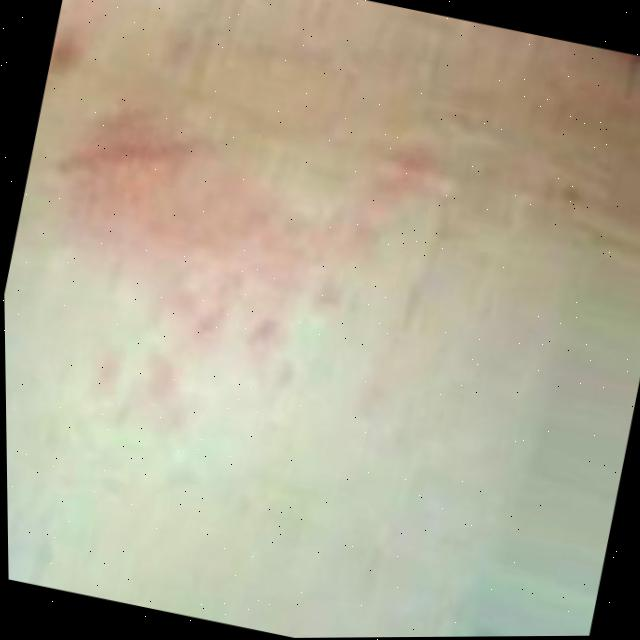Shingles: (59, 106, 364, 361)
